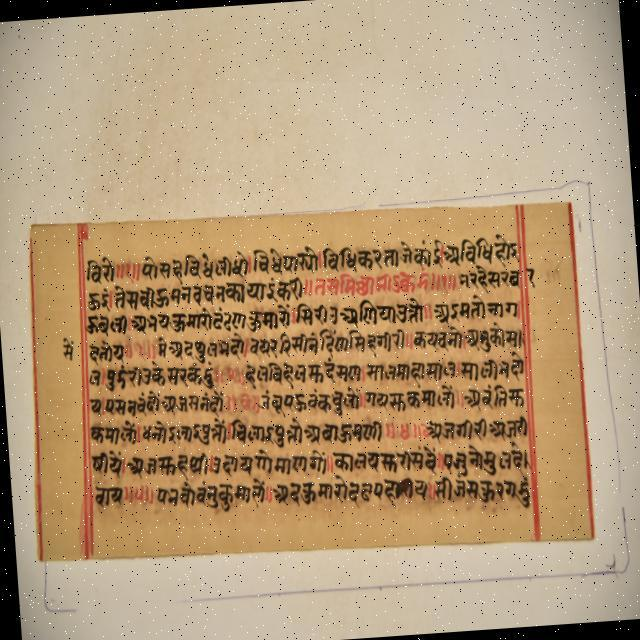text_paragraph: (30, 198, 595, 560)
